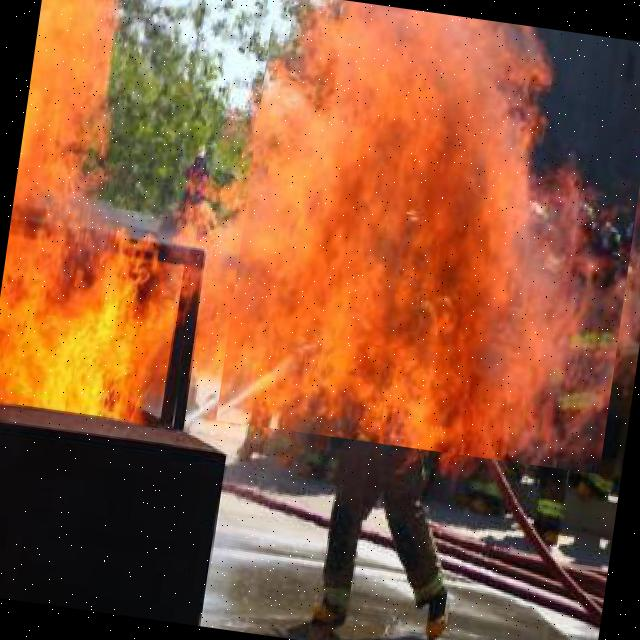fire: (216, 0, 640, 474), (0, 0, 220, 428)
